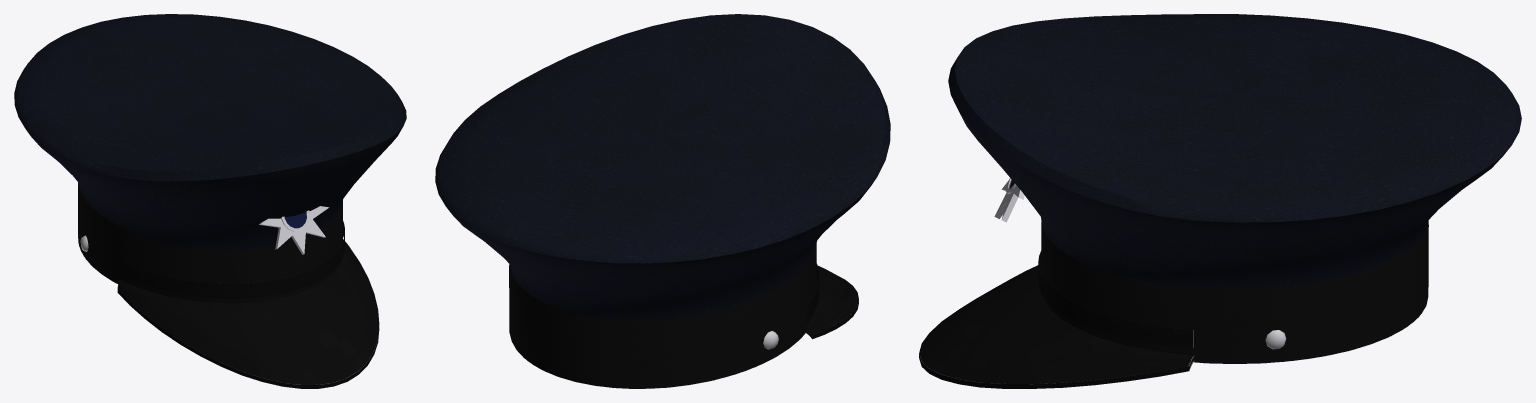
File: PoliceCap.obj
3 views of the same model, side by side, from view 1: azimuth 30°, elevation 25°; view 2: azimuth 150°, elevation 25°; view 3: azimuth 270°, elevation 25° (orthographic). The views are drawn at different scales.
Visible parts, largest first — view 1: Cap; view 2: Cap; view 3: Cap.
Boxes of the visible parts, x1,y1,x2,y2 form: Cap: (14,14,406,388); Cap: (435,14,890,388); Cap: (919,14,1521,388).
Size of the model in its own units: 0.2426 by 0.1617 by 0.3064.
Materials: 1 (1 with a texture image).
